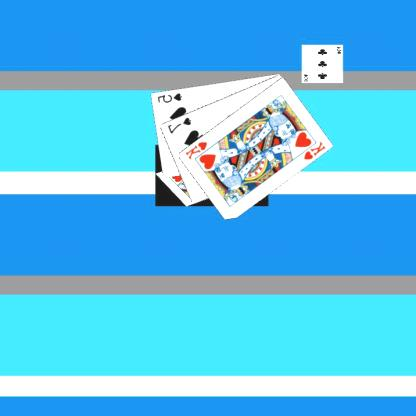5S: (156, 90, 185, 104)
7S: (166, 114, 194, 135)
KH: (184, 139, 210, 161), (303, 139, 328, 161)
